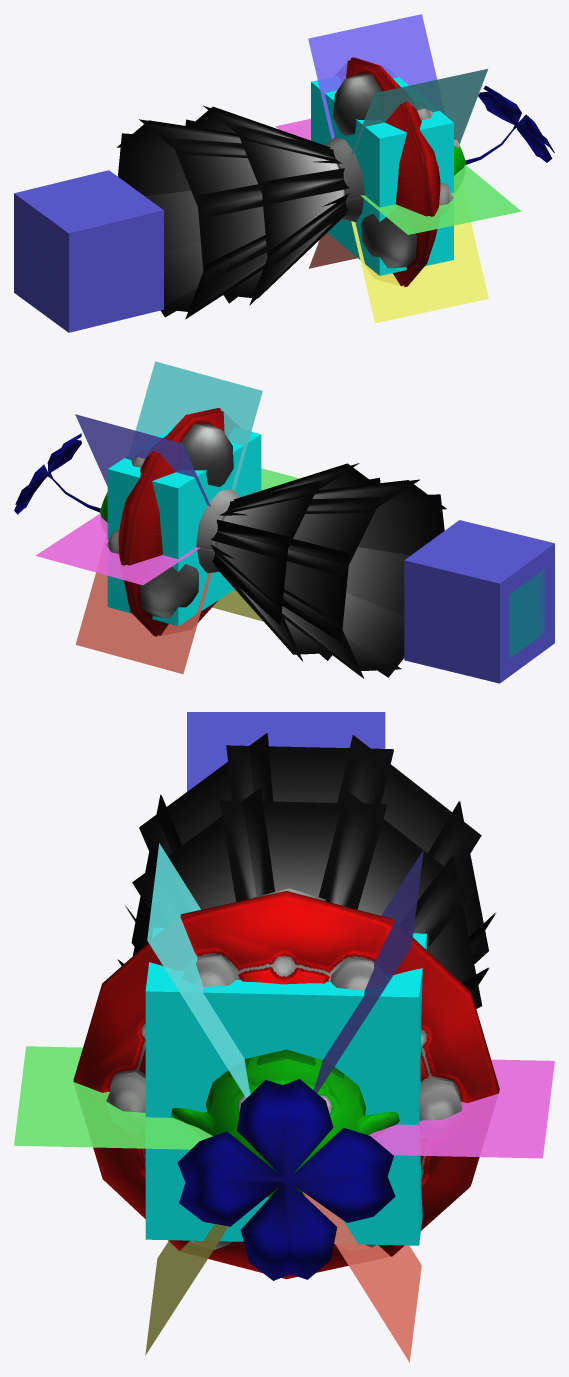
3 views of the same model, one above another, from view 1: azimuth 30°, elevation 25°; view 2: azimuth 150°, elevation 25°; view 3: azimuth 270°, elevation 25° (orthographic). The views are drawn at different scales.
Visible parts, largest first — view 1: object0258_Box, object0211_Plane172, object0005_G1274, object0240_Plane171, object0246_Box, "object0114_Editable Poly", "object0069_Editable Poly", "object0100_Editable Poly", "object0086_Editable Poly", "object0142_Editable Poly", "object0128_Editable Poly"; view 2: object0258_Box, object0243_Plane173, object0005_G1274, object0226_Plane174, object0246_Box, "object0100_Editable Poly", object0211_Plane172, "object0142_Editable Poly", "object0128_Editable Poly", "object0114_Editable Poly", object0261_Box, object0240_Plane171 (+2 smaller); view 3: object0005_G1274, object0246_Box, object0240_Plane171, object0211_Plane172, object0226_Plane174, "object0086_Editable Poly", "object0128_Editable Poly", object0243_Plane173, object0258_Box, "object0100_Editable Poly", "object0142_Editable Poly", "object0114_Editable Poly" (+5 smaller).
Boxes of the visible parts, x1=… form: object0258_Box: x1=14, y1=170, x2=163, y2=332; object0211_Plane172: x1=117, y1=119, x2=348, y2=319; object0005_G1274: x1=324, y1=57, x2=554, y2=286; object0240_Plane171: x1=185, y1=105, x2=349, y2=305; object0246_Box: x1=311, y1=77, x2=453, y2=275; "object0114_Editable Poly": x1=308, y1=14, x2=437, y2=139; "object0069_Editable Poly": x1=351, y1=221, x2=488, y2=323; "object0100_Editable Poly": x1=351, y1=69, x2=487, y2=154; "object0086_Editable Poly": x1=360, y1=164, x2=521, y2=234; "object0142_Editable Poly": x1=309, y1=232, x2=357, y2=268; "object0128_Editable Poly": x1=275, y1=118, x2=310, y2=140; object0258_Box: x1=404, y1=520, x2=554, y2=683; object0243_Plane173: x1=211, y1=480, x2=446, y2=678; object0005_G1274: x1=14, y1=408, x2=240, y2=636; object0226_Plane174: x1=211, y1=464, x2=379, y2=661; object0246_Box: x1=107, y1=426, x2=261, y2=626; "object0100_Editable Poly": x1=135, y1=361, x2=262, y2=490; object0211_Plane172: x1=212, y1=479, x2=446, y2=677; "object0142_Editable Poly": x1=75, y1=572, x2=211, y2=673; "object0128_Editable Poly": x1=35, y1=513, x2=200, y2=585; "object0114_Editable Poly": x1=75, y1=414, x2=210, y2=506; object0261_Box: x1=509, y1=569, x2=545, y2=658; object0240_Plane171: x1=211, y1=463, x2=380, y2=660; object0005_G1274: x1=73, y1=888, x2=499, y2=1280; object0246_Box: x1=145, y1=933, x2=426, y2=1245; object0240_Plane171: x1=117, y1=788, x2=488, y2=983; object0211_Plane172: x1=125, y1=733, x2=495, y2=946; object0226_Plane174: x1=119, y1=788, x2=489, y2=1008; "object0086_Editable Poly": x1=14, y1=1046, x2=212, y2=1149; "object0128_Editable Poly": x1=368, y1=1059, x2=554, y2=1158; object0243_Plane173: x1=126, y1=733, x2=495, y2=963; object0258_Box: x1=187, y1=712, x2=385, y2=791; "object0100_Editable Poly": x1=147, y1=843, x2=250, y2=1098; "object0142_Editable Poly": x1=302, y1=1191, x2=421, y2=1362; "object0114_Editable Poly": x1=313, y1=850, x2=423, y2=1093.
Size of the model in its own units: 1.11 by 0.4867 by 0.5727.
